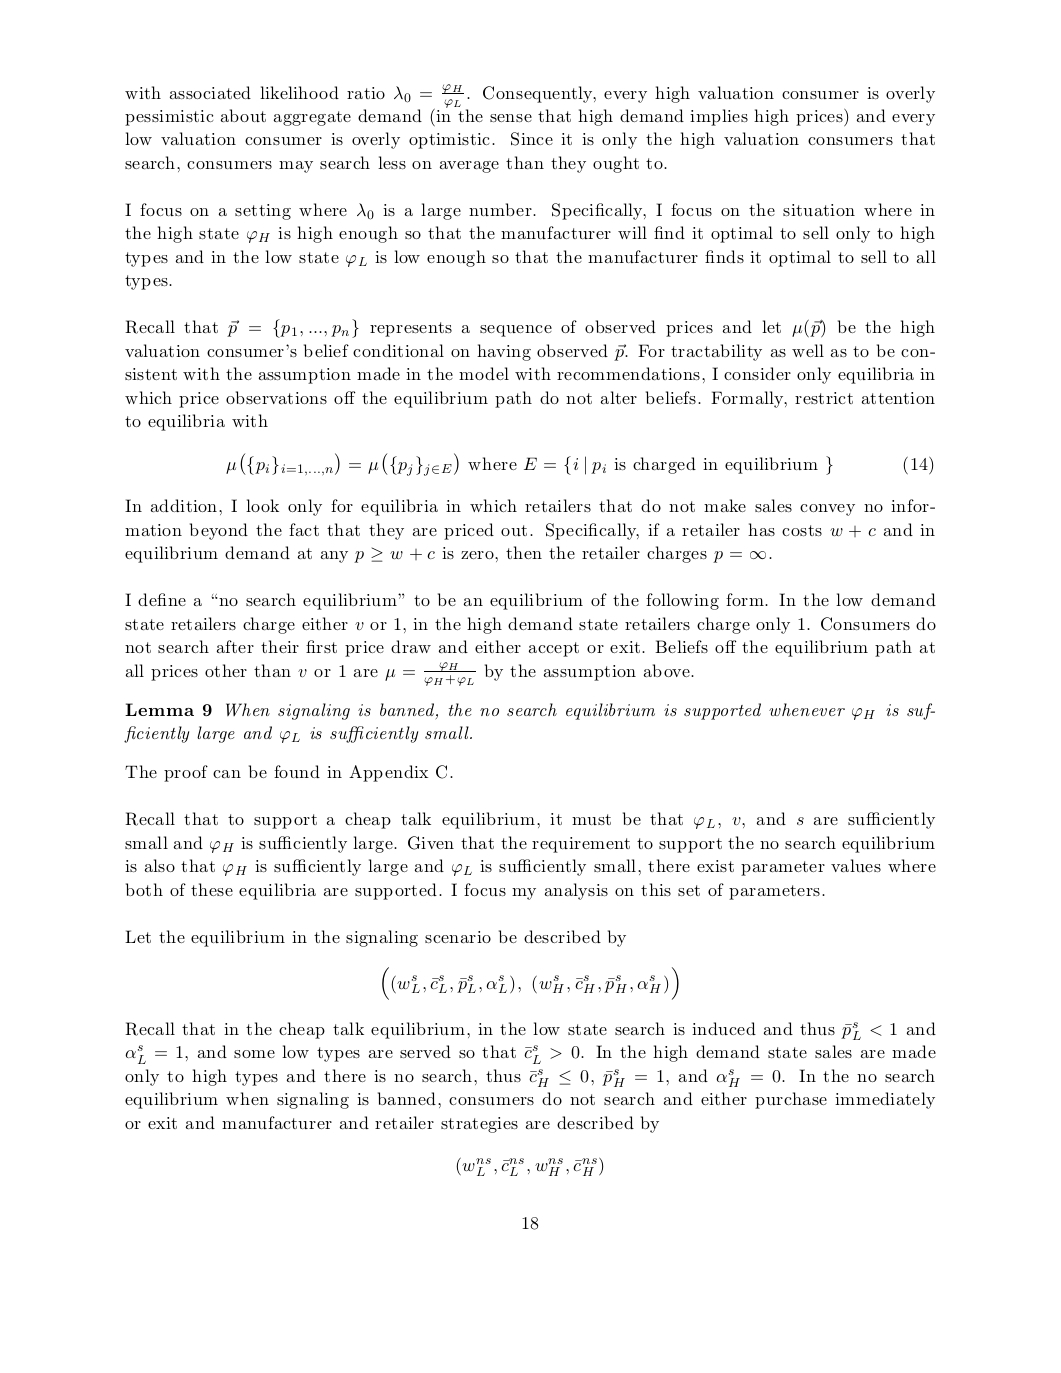formula: (382, 966, 678, 1000), (456, 1156, 603, 1176)
